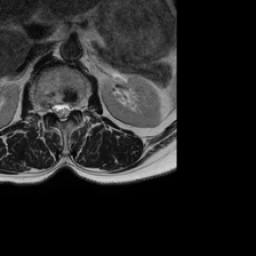CCS_normal: (59, 97, 65, 124)
LFS_stenosis: (73, 98, 78, 114)
LLS_normal: (65, 99, 72, 118)
RFS_stenosis: (45, 99, 53, 117)
RLS_normal: (53, 98, 59, 119)
